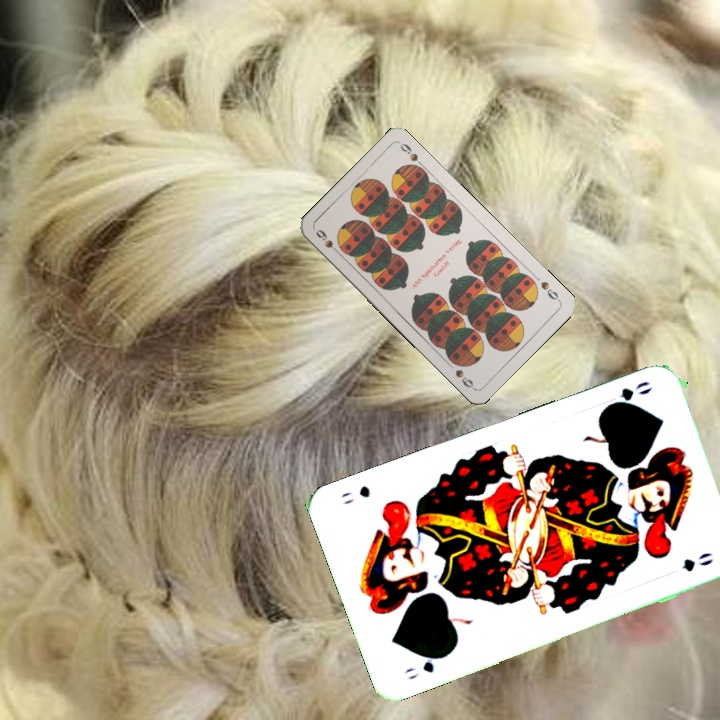GO: (400, 649, 451, 682), (604, 377, 655, 409)
S9: (312, 225, 343, 258), (537, 277, 563, 304)
